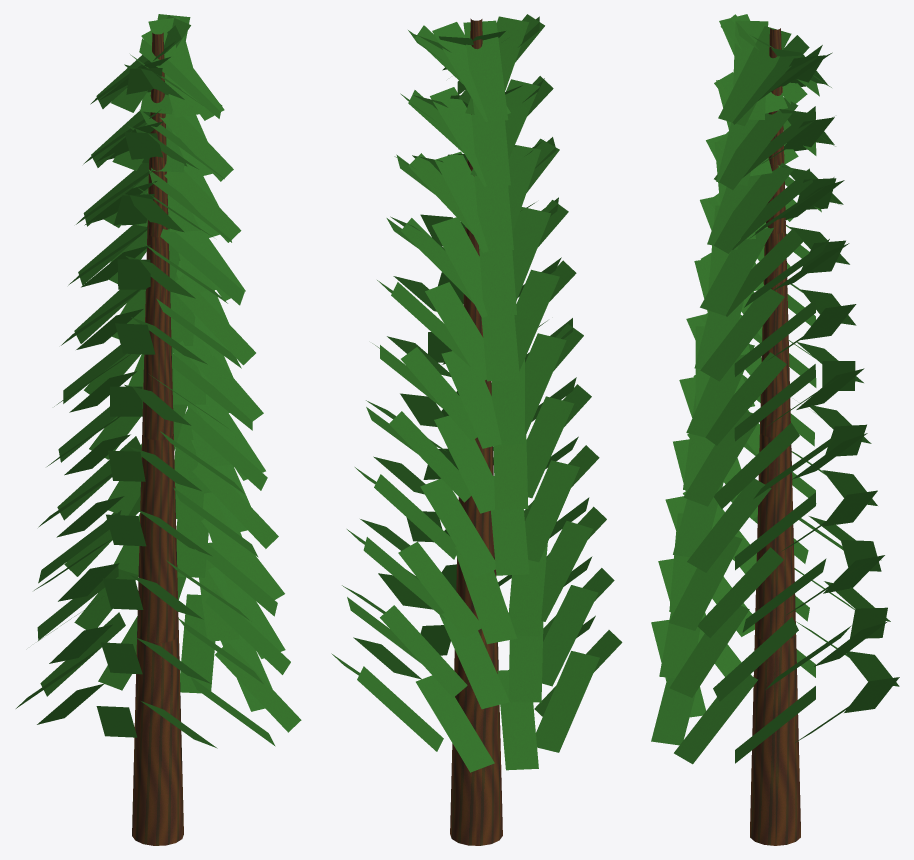
File: pine_tree_realistic.glb
The picture shows the model from 3 angles, left to right: view 1: azimuth 30°, elevation 25°; view 2: azimuth 150°, elevation 25°; view 3: azimuth 270°, elevation 25°; orthographic projection.
Parts seen in each view (by area): view 1: leaves, trunk; view 2: leaves, trunk; view 3: leaves, trunk.
Boxes of the visible parts, x1,y1,x2,y2 form: leaves: (16, 14, 301, 748); trunk: (132, 32, 183, 845); leaves: (331, 14, 622, 772); trunk: (450, 18, 502, 845); leaves: (651, 14, 899, 764); trunk: (750, 28, 800, 845).
Size of the model in its own units: 2.54 by 9.5 by 2.65.
2 materials, 2 textured.
